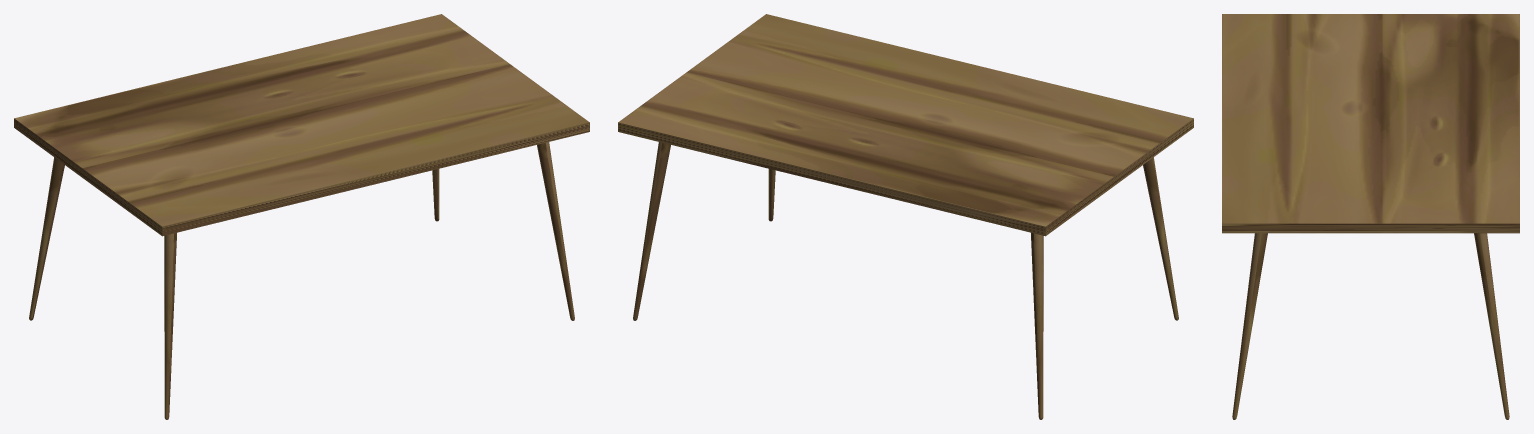
File: table.glb
3 renders of one model, left to right at view 1: azimuth 30°, elevation 25°; view 2: azimuth 150°, elevation 25°; view 3: azimuth 270°, elevation 25°, orthographic.
Visible parts, largest first — view 1: tabletop, tablelegs; view 2: tabletop, tablelegs; view 3: tabletop, tablelegs.
Boxes of the visible parts, x1,y1,x2,y2 form: tabletop: (14,14,589,236); tablelegs: (29,142,574,419); tabletop: (618,14,1193,236); tablelegs: (633,142,1178,419); tabletop: (1222,14,1519,233); tablelegs: (1232,233,1509,419).
Size of the model in its own units: 2 by 0.894 by 1.2.
Materials: 1 (1 with a texture image).
